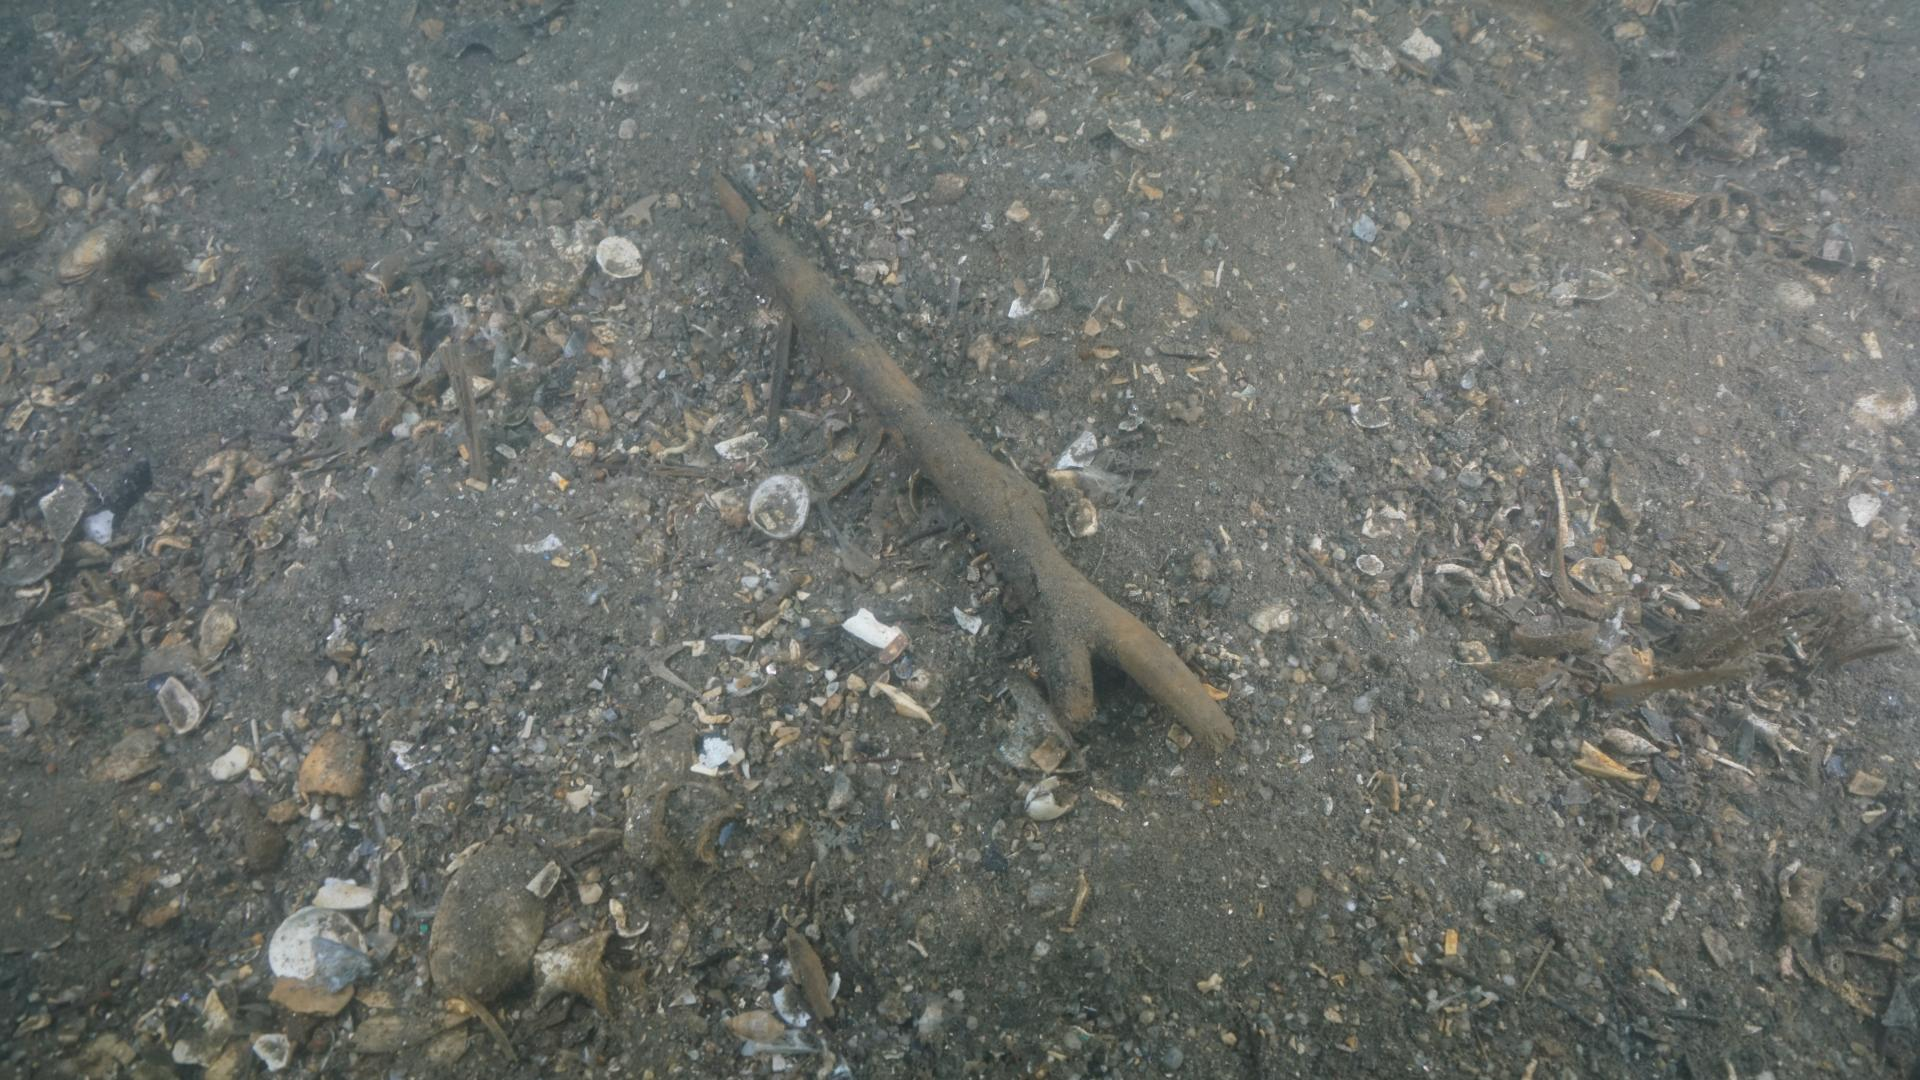wood: (707, 166, 1236, 756)
